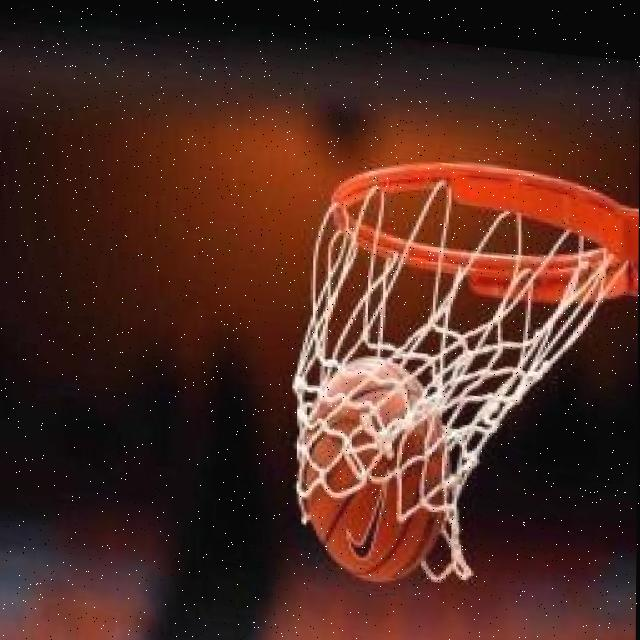Goal: (303, 352, 453, 589)
